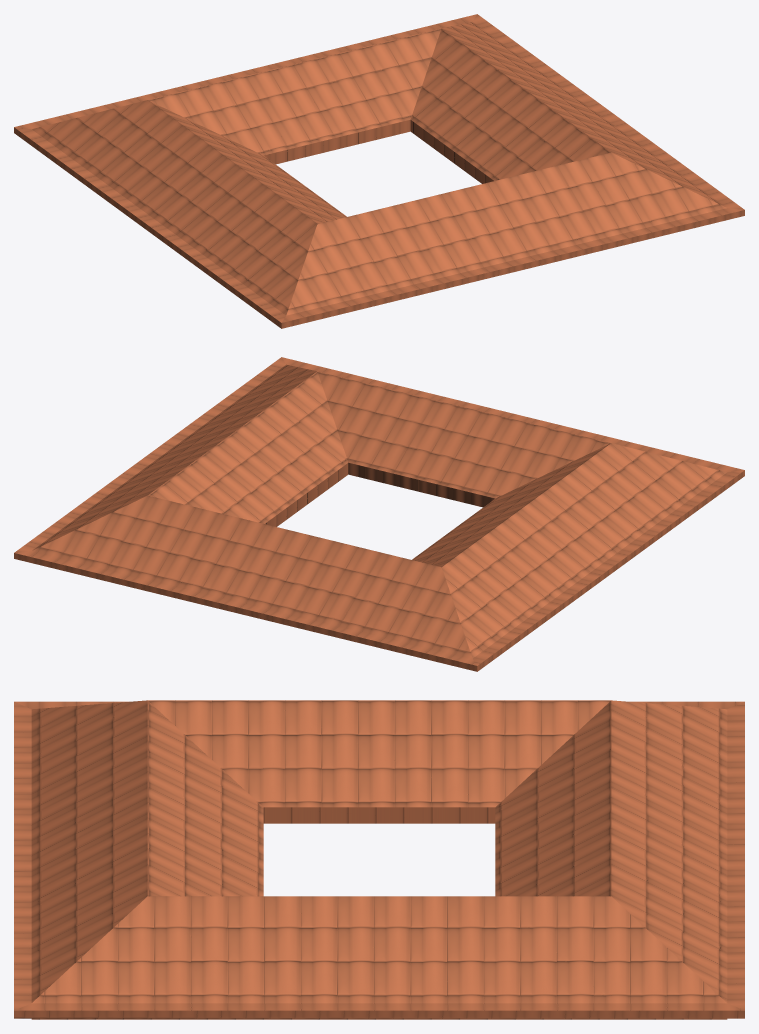
File: Roof_2.gltf
3 views of the same model, one above another, from view 1: azimuth 30°, elevation 25°; view 2: azimuth 150°, elevation 25°; view 3: azimuth 270°, elevation 25° (orthographic). The views are drawn at different scales.
Visible parts, largest first — view 1: Cube.008; view 2: Cube.008; view 3: Cube.008.
Part boxes in pixels (box(x1,y1,x2,y2)): Cube.008: box(14, 14, 744, 328); Cube.008: box(14, 357, 744, 671); Cube.008: box(14, 700, 744, 1019).
Size of the model in its own units: 25.37 by 2.84 by 25.37.
1 material, 1 textured.
